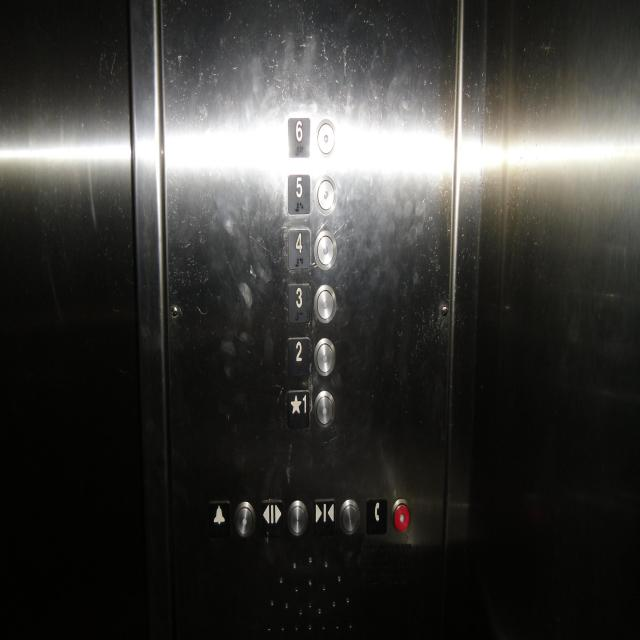2: (287, 336, 311, 380)
3: (287, 282, 312, 324)
4: (287, 228, 311, 270)
5: (286, 172, 312, 216)
6: (287, 116, 311, 160)
alarm: (206, 498, 232, 541)
call: (366, 496, 388, 537)
close: (313, 498, 336, 538)
empty: (314, 175, 338, 217), (314, 230, 336, 272), (234, 499, 257, 539), (314, 284, 336, 324), (314, 336, 336, 376), (313, 390, 335, 430), (339, 498, 361, 538), (287, 498, 308, 538), (316, 120, 336, 160), (391, 498, 411, 532)
open: (261, 498, 283, 537)
s1: (287, 388, 311, 431)
